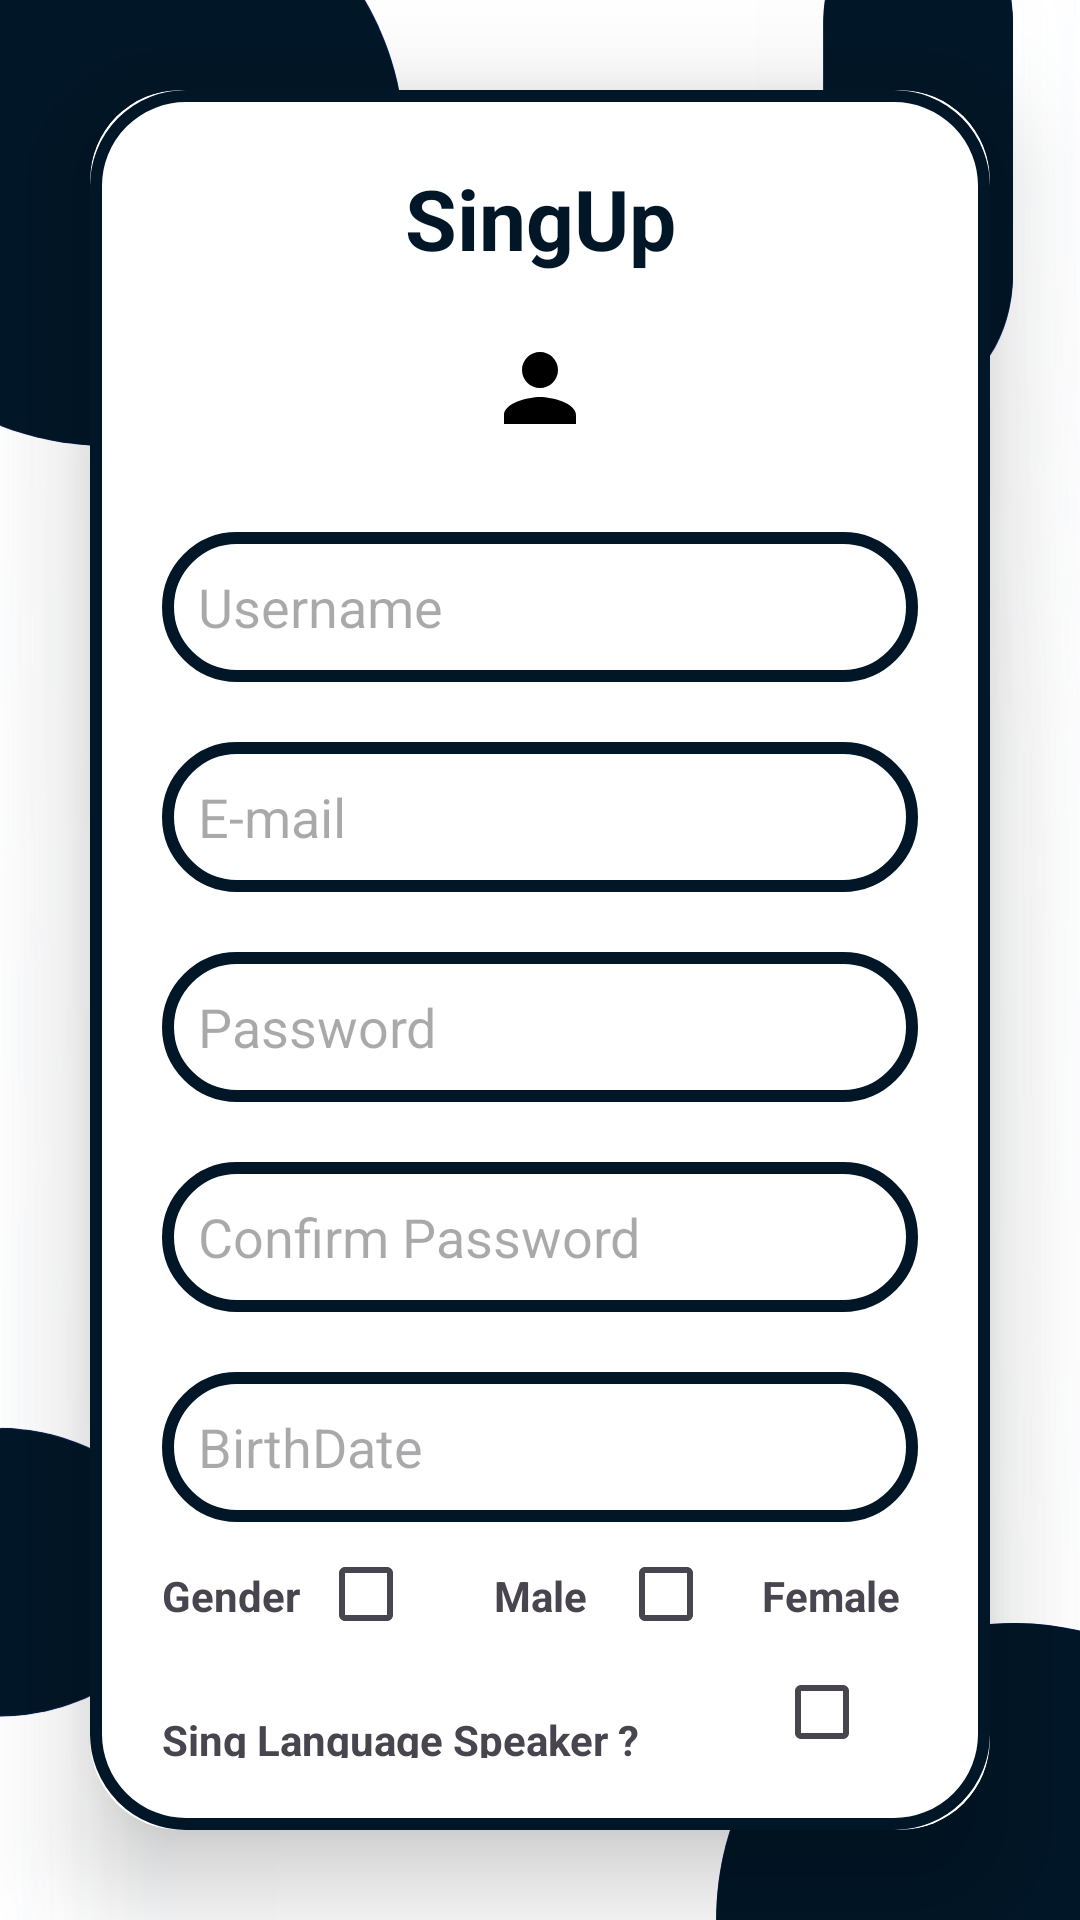

Icons on this 1080 × 1920 Android screen, each with its box as (x1, y1, x2, y2):
person: (504, 352, 576, 424)
